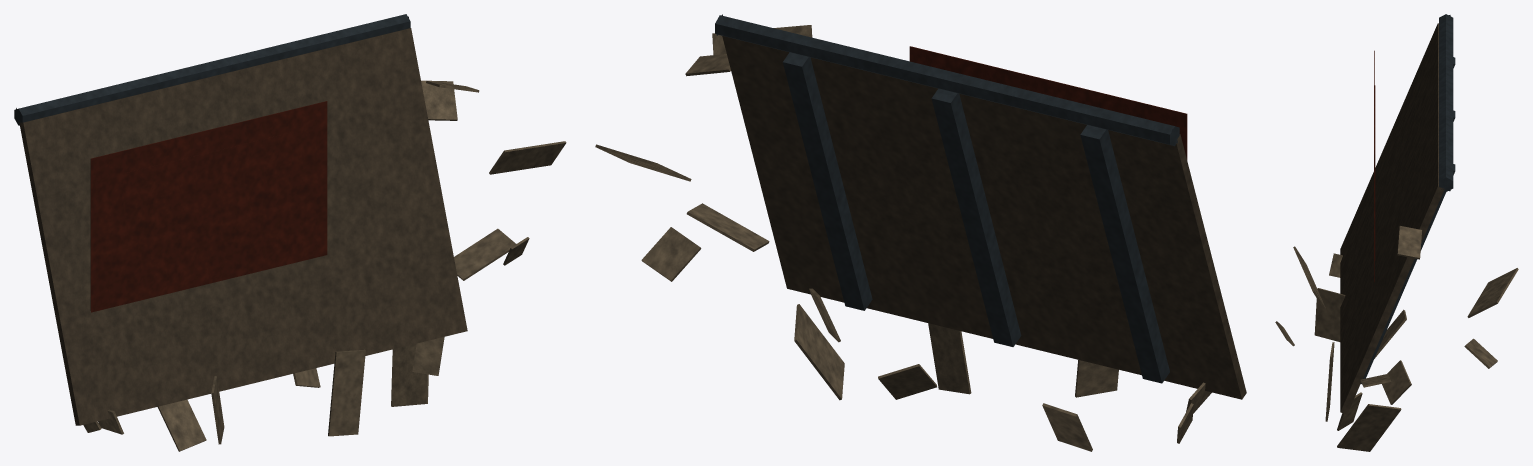
The model's file is deb_ore_freighter_hopper_lid.glb.
3 renders of one model, left to right at view 1: azimuth 30°, elevation 25°; view 2: azimuth 150°, elevation 25°; view 3: azimuth 270°, elevation 25°, orthographic. The views are drawn at different scales.
Visible parts, largest first — view 1: LOD0_deb_ore_freighter_hopper_lid_Material_Hull, LOD0_deb_ore_freighter_hopper_lid_Material_Heat, LOD2_deb_ore_freighter_hopper_lid_Material_Hull, LOD0_deb_ore_freighter_hopper_lid_Material_Insulation, LOD0_deb_ore_freighter_hopper_lid_Material_Structural; view 2: LOD0_deb_ore_freighter_hopper_lid_Material_Hull, LOD2_deb_ore_freighter_hopper_lid_Material_Hull, LOD0_deb_ore_freighter_hopper_lid_Material_Structural, LOD0_deb_ore_freighter_hopper_lid_Material_Insulation, LOD0_deb_ore_freighter_hopper_lid_Material_Heat; view 3: LOD0_deb_ore_freighter_hopper_lid_Material_Hull, LOD0_deb_ore_freighter_hopper_lid_Material_Insulation, LOD0_deb_ore_freighter_hopper_lid_Material_Structural, LOD2_deb_ore_freighter_hopper_lid_Material_Hull, LOD1_deb_ore_freighter_hopper_lid_Material_Hull, LOD0_deb_ore_freighter_hopper_lid_Material_Heat.
Boxes of the visible parts, bbox=[...] form: LOD0_deb_ore_freighter_hopper_lid_Material_Hull: bbox=[19, 28, 467, 425]; LOD0_deb_ore_freighter_hopper_lid_Material_Heat: bbox=[90, 101, 327, 312]; LOD2_deb_ore_freighter_hopper_lid_Material_Hull: bbox=[52, 29, 467, 330]; LOD0_deb_ore_freighter_hopper_lid_Material_Insulation: bbox=[83, 80, 566, 451]; LOD0_deb_ore_freighter_hopper_lid_Material_Structural: bbox=[14, 14, 410, 125]; LOD0_deb_ore_freighter_hopper_lid_Material_Hull: bbox=[722, 36, 1246, 399]; LOD2_deb_ore_freighter_hopper_lid_Material_Hull: bbox=[758, 142, 1240, 398]; LOD0_deb_ore_freighter_hopper_lid_Material_Structural: bbox=[715, 15, 1179, 383]; LOD0_deb_ore_freighter_hopper_lid_Material_Insulation: bbox=[595, 25, 1211, 451]; LOD0_deb_ore_freighter_hopper_lid_Material_Heat: bbox=[909, 46, 1187, 159]; LOD0_deb_ore_freighter_hopper_lid_Material_Hull: bbox=[1340, 23, 1444, 414]; LOD0_deb_ore_freighter_hopper_lid_Material_Insulation: bbox=[1275, 226, 1518, 451]; LOD0_deb_ore_freighter_hopper_lid_Material_Structural: bbox=[1360, 14, 1455, 383]; LOD2_deb_ore_freighter_hopper_lid_Material_Hull: bbox=[1341, 141, 1437, 409]; LOD1_deb_ore_freighter_hopper_lid_Material_Hull: bbox=[1345, 187, 1443, 409]; LOD0_deb_ore_freighter_hopper_lid_Material_Heat: bbox=[1374, 50, 1375, 282].
Size of the model in its own units: 31.56 by 22.2 by 16.38.
Materials: 4 (4 with a texture image).
